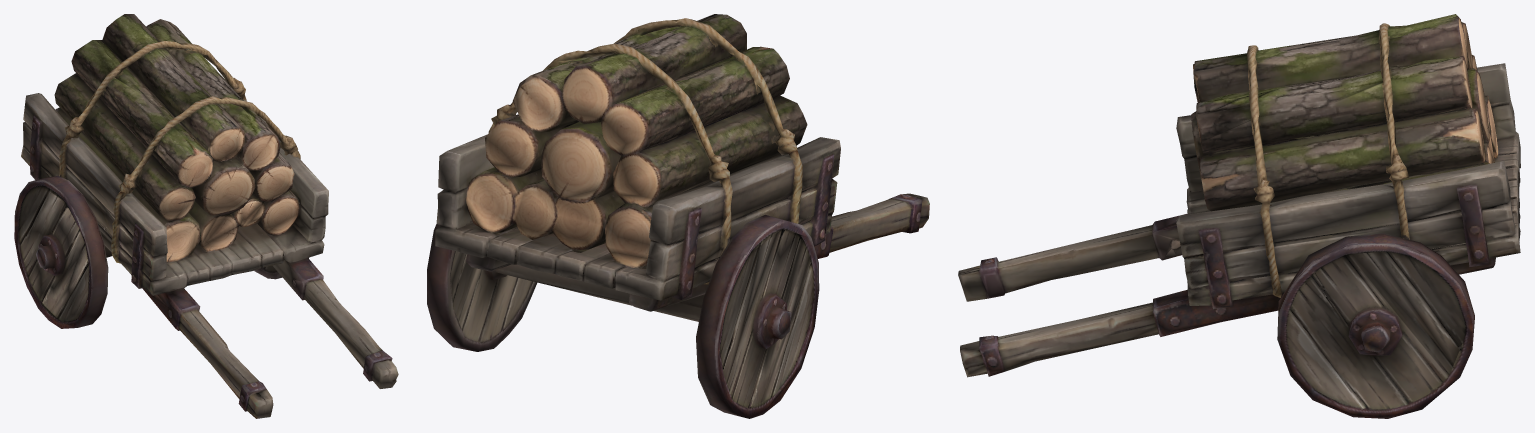
The model's file is LogCart.gltf.
3 renders of one model, left to right at view 1: azimuth 30°, elevation 25°; view 2: azimuth 150°, elevation 25°; view 3: azimuth 270°, elevation 25°, orthographic. The views are drawn at different scales.
Visible parts, largest first — view 1: lo; view 2: lo; view 3: lo.
Part boxes in pixels (x1,y1,x2,y2): lo: [14, 14, 398, 418]; lo: [427, 14, 929, 418]; lo: [958, 14, 1520, 418].
Bounding box in the file's own units: 2.1 × 2.13 × 3.29.
1 material, 1 textured.
